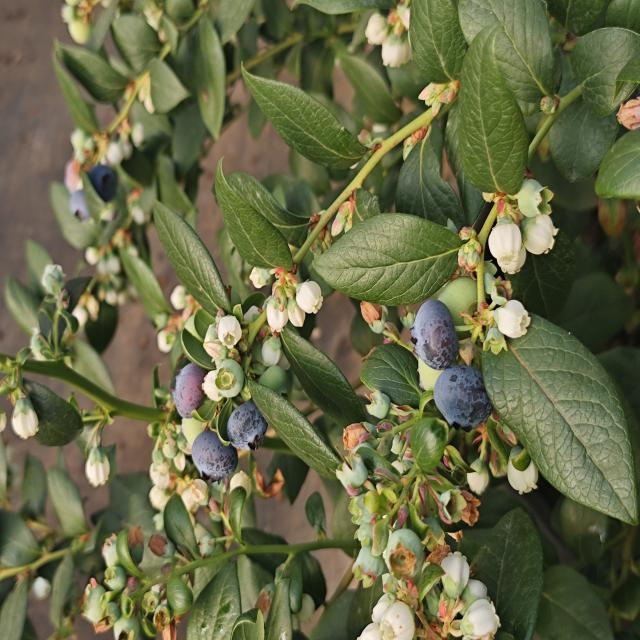ripe: (411, 293, 464, 368), (421, 358, 483, 420), (58, 164, 122, 222), (162, 370, 209, 429), (188, 426, 232, 474), (222, 403, 268, 439)
